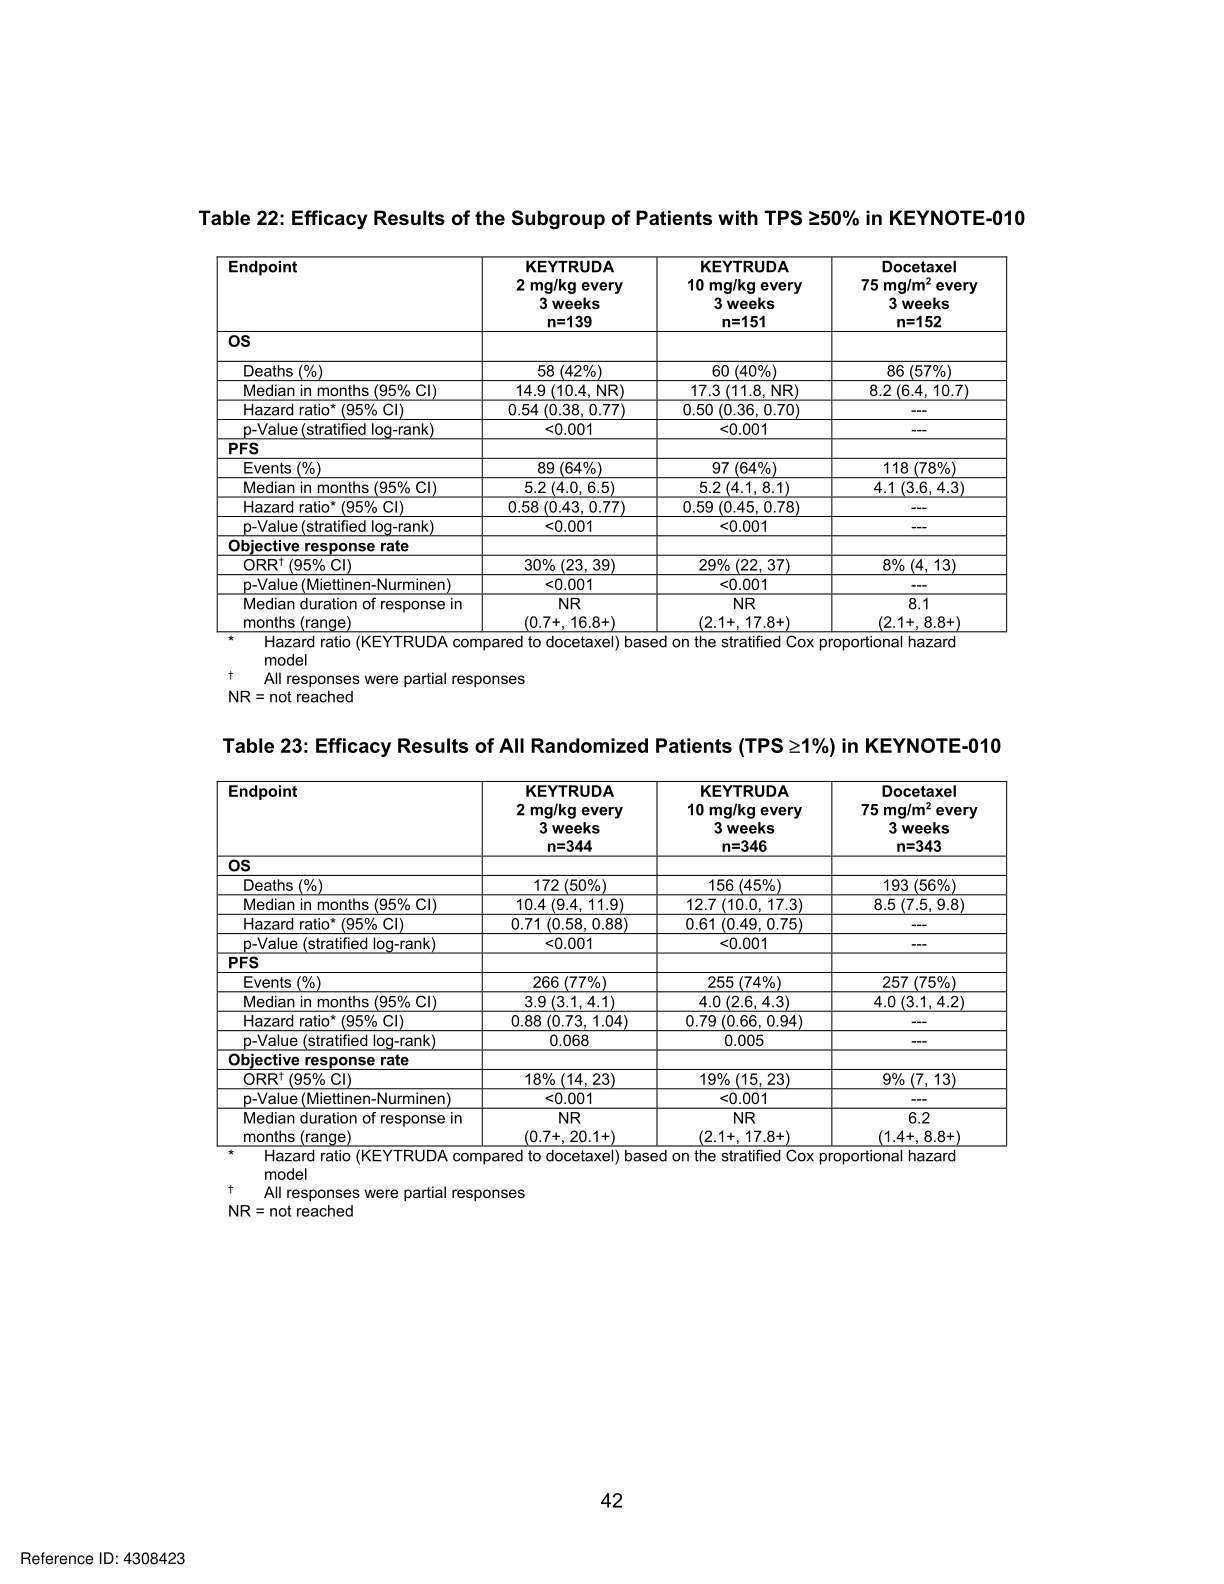full_lined: (215, 255, 1008, 633), (215, 780, 1008, 1147)
